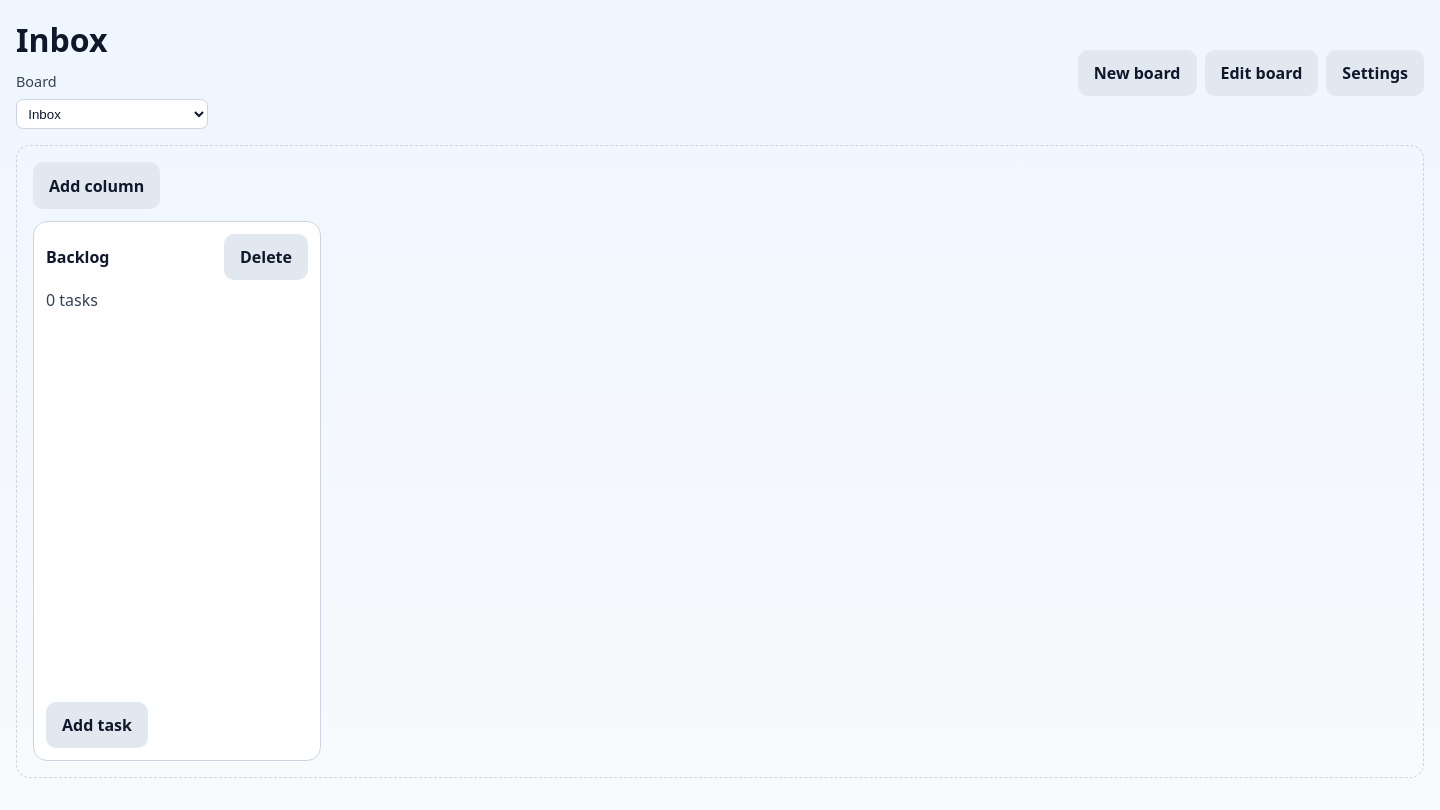
Scenario: App › creates a task from column footer add-task action
The width and height of the screenshot is (1440, 810).
Click the button with test id "app.tasks.create.open.column-1" at [97, 725], box [46,702,148,748]
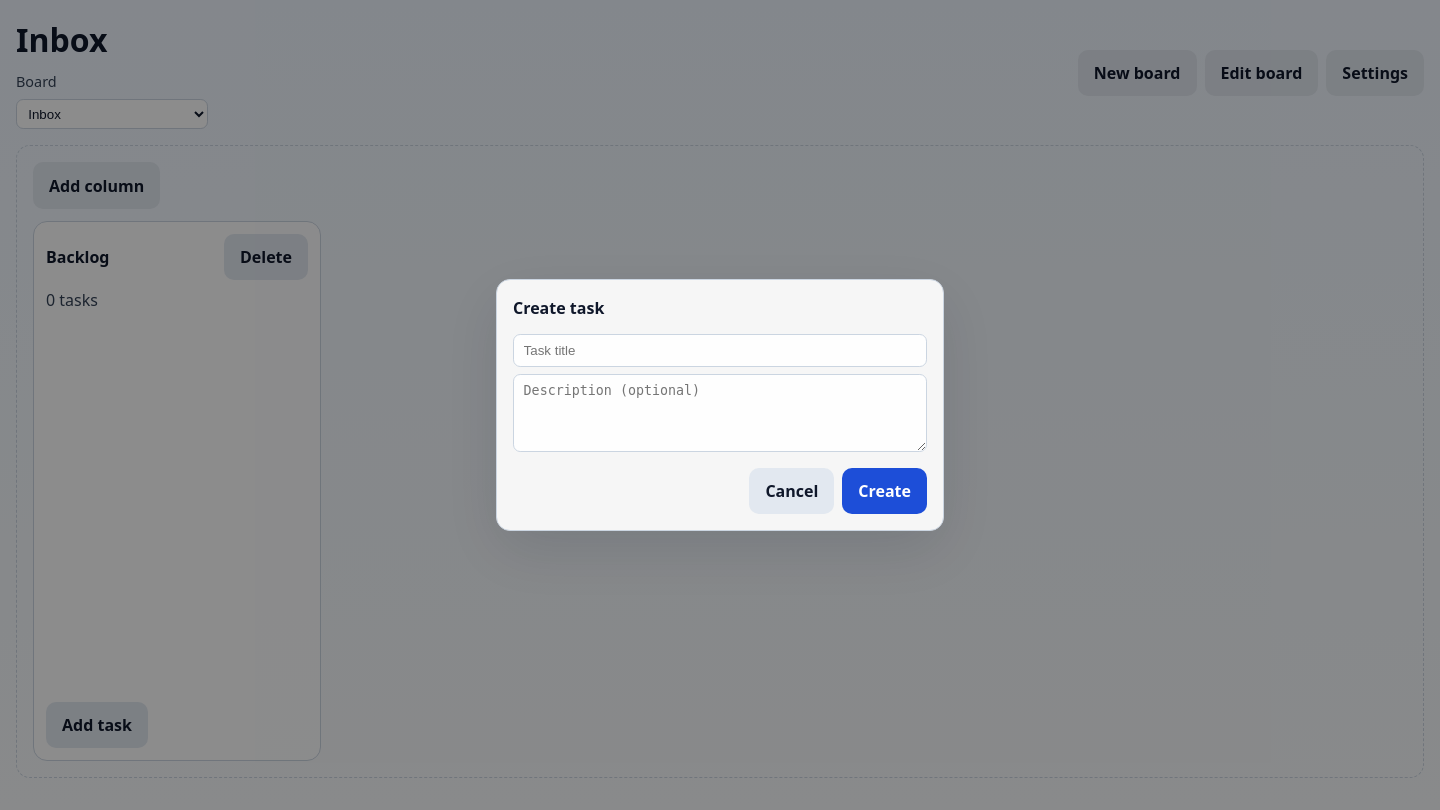
Type "First task" into the field with test id "app.tasks.create.title" at [720, 351], box [513,334,927,367]
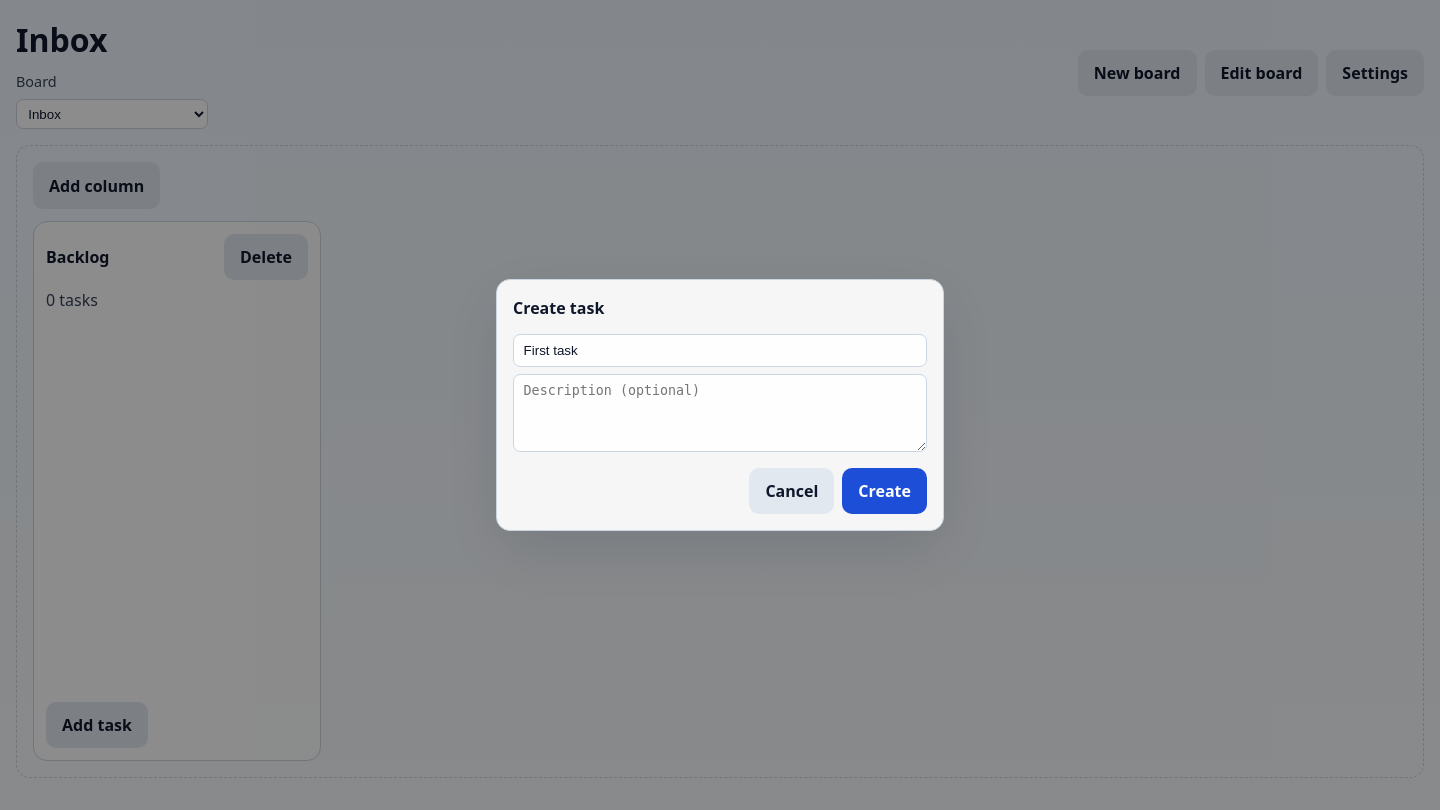
Type "Optional description" into the text box with test id "app.tasks.create.description" at [720, 413], box [513,374,927,452]
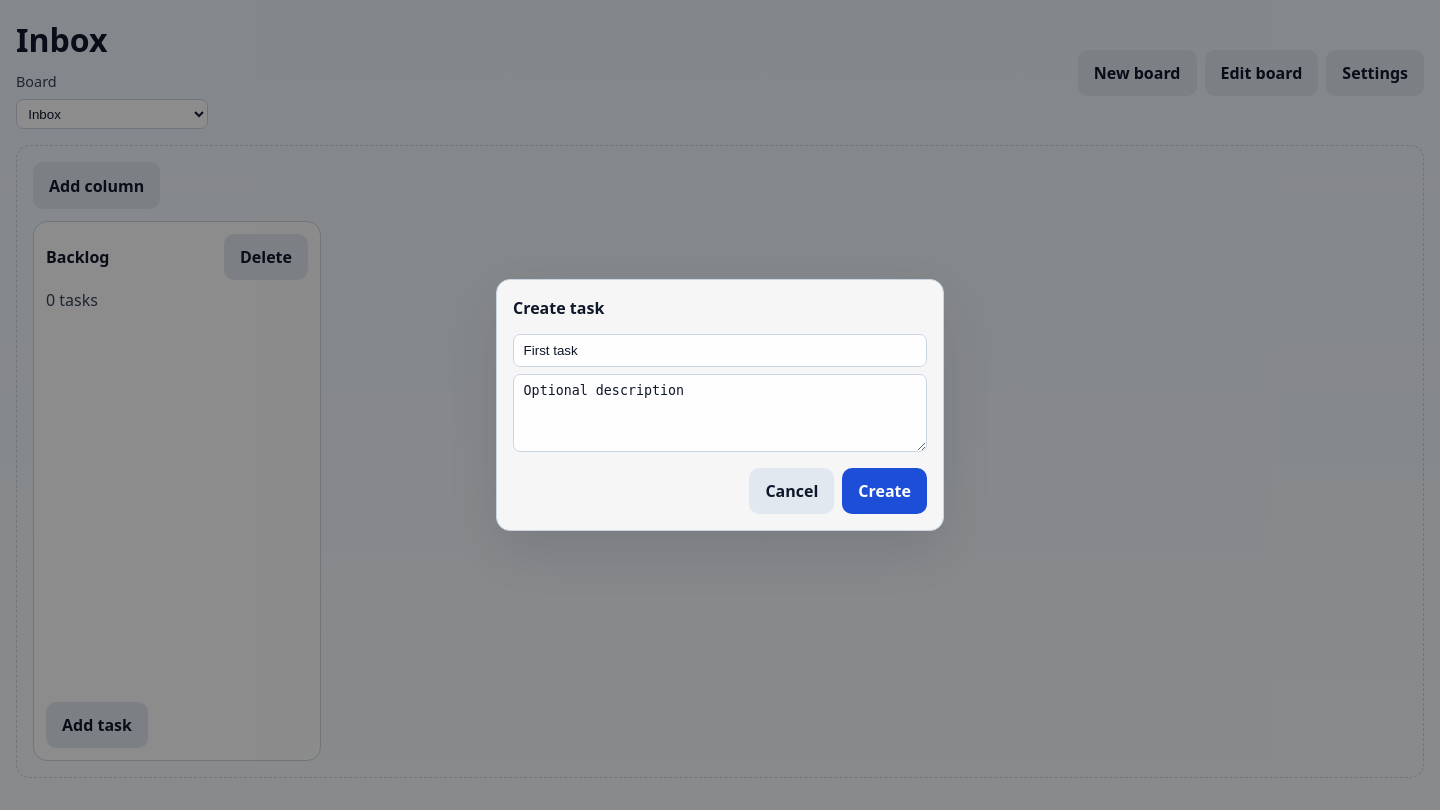
Click the button with test id "app.tasks.create.submit" at [885, 491], box [842,468,927,514]
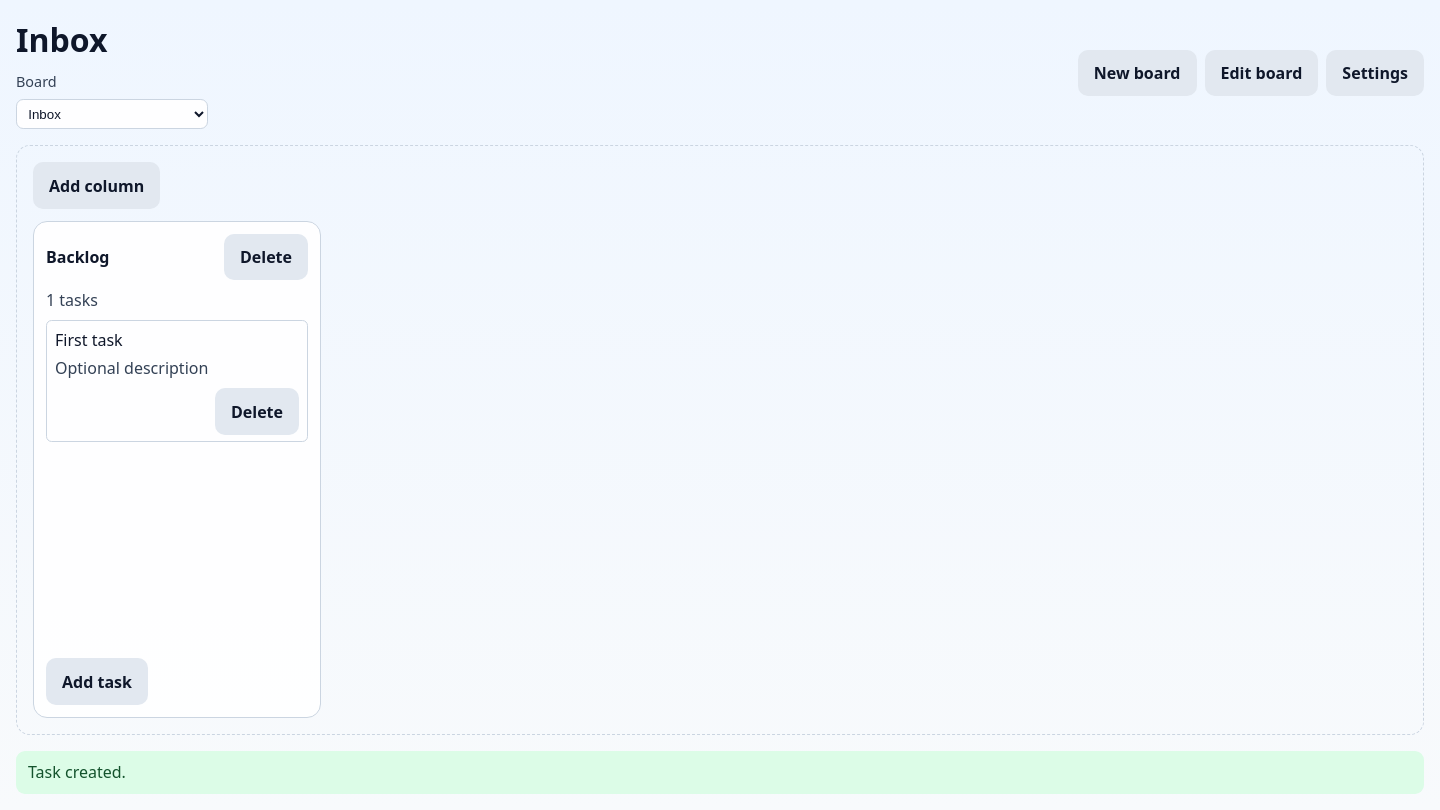
Now the text "First task" is shown, box [55,328,123,350]
Now the text "Optional description" is shown, box [55,357,208,379]
